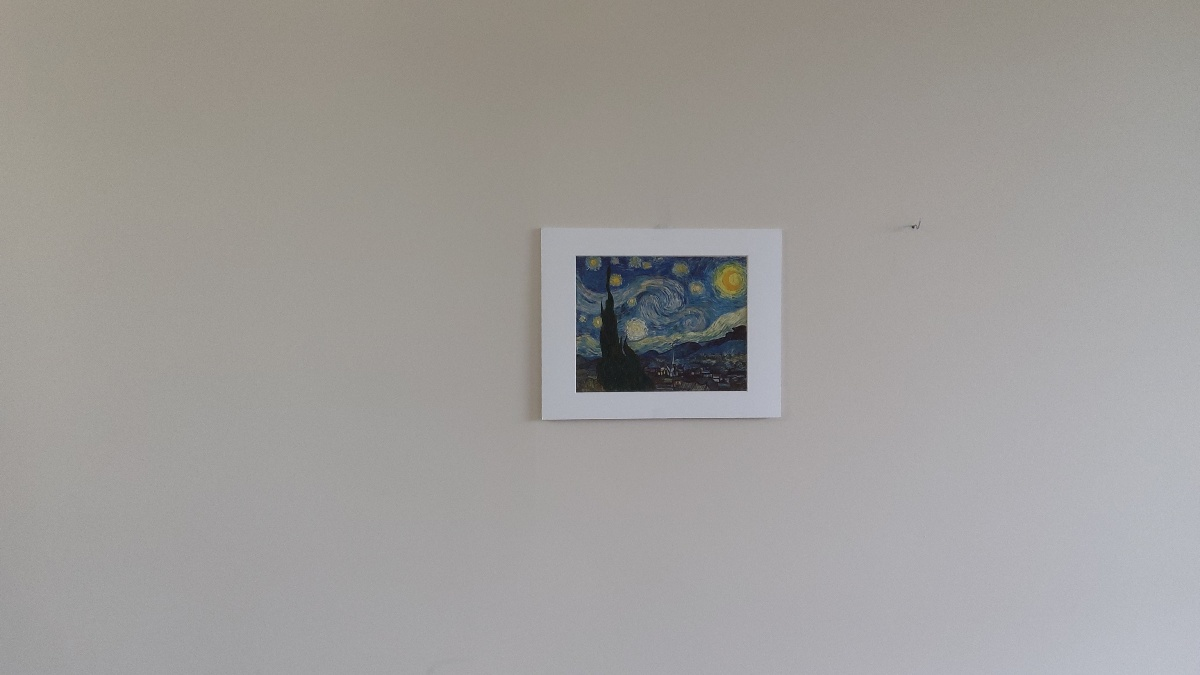painting: (565, 246, 763, 397)
